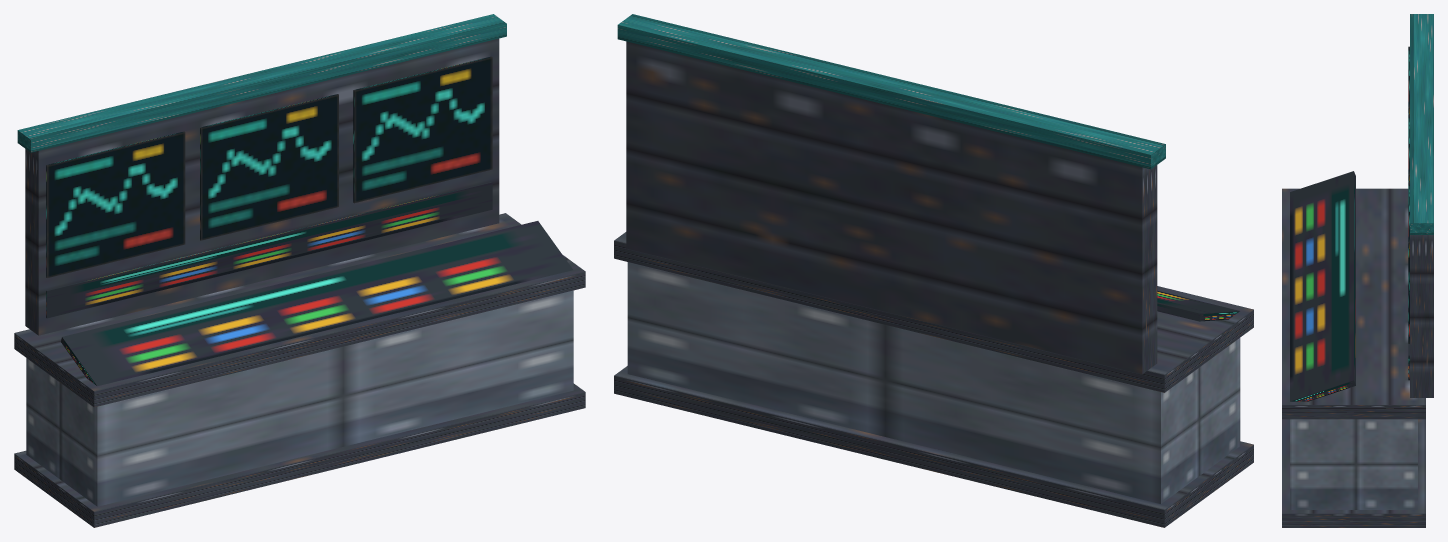
The model's file is control_console_wide.obj.
3 views of the same model, side by side, from view 1: azimuth 30°, elevation 25°; view 2: azimuth 150°, elevation 25°; view 3: azimuth 270°, elevation 25° (orthographic). The views are drawn at different scales.
Visible parts, largest first — view 1: control_console_wide; view 2: control_console_wide; view 3: control_console_wide.
Boxes of the visible parts, x1=… form: control_console_wide: x1=14, y1=14, x2=585, y2=527; control_console_wide: x1=614, y1=14, x2=1253, y2=527; control_console_wide: x1=1282, y1=14, x2=1433, y2=527.
Size of the model in its own units: 3.2 by 2.08 by 0.95.
1 material, 1 textured.
